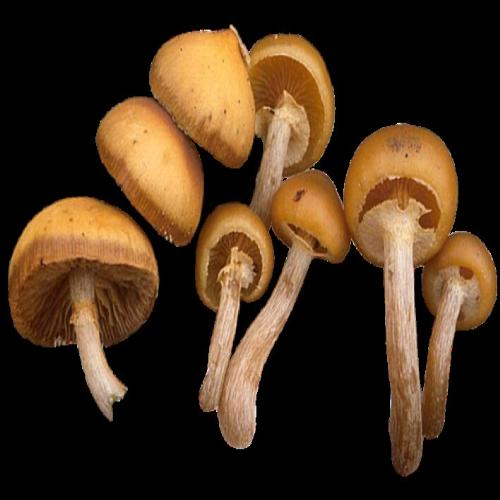Funeral Bell: (305, 116, 467, 474), (183, 158, 372, 460), (0, 180, 178, 422), (75, 83, 240, 253), (191, 201, 275, 412), (144, 25, 260, 175), (249, 35, 334, 228), (419, 231, 497, 439)
